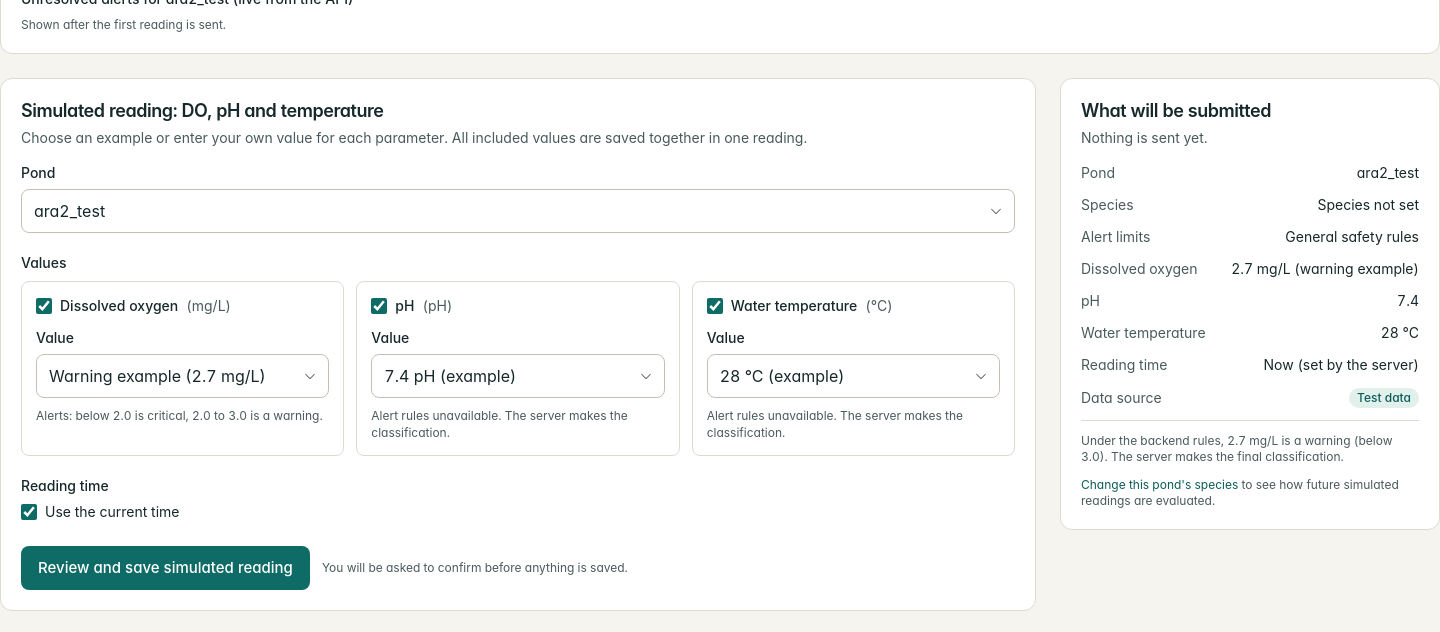
Scenario: simulation: one reading, three parameters › submits all three custom values in ONE request with the API's field names, after confirmation
(page scrolled)
expect the heading "Simulated reading: DO, pH and temperature" is shown: met, box [21,100,384,121]
Select "Custom value" in the 1st dropdown labelled "Value": (183, 376) [36,354,329,398]
(page scrolled)
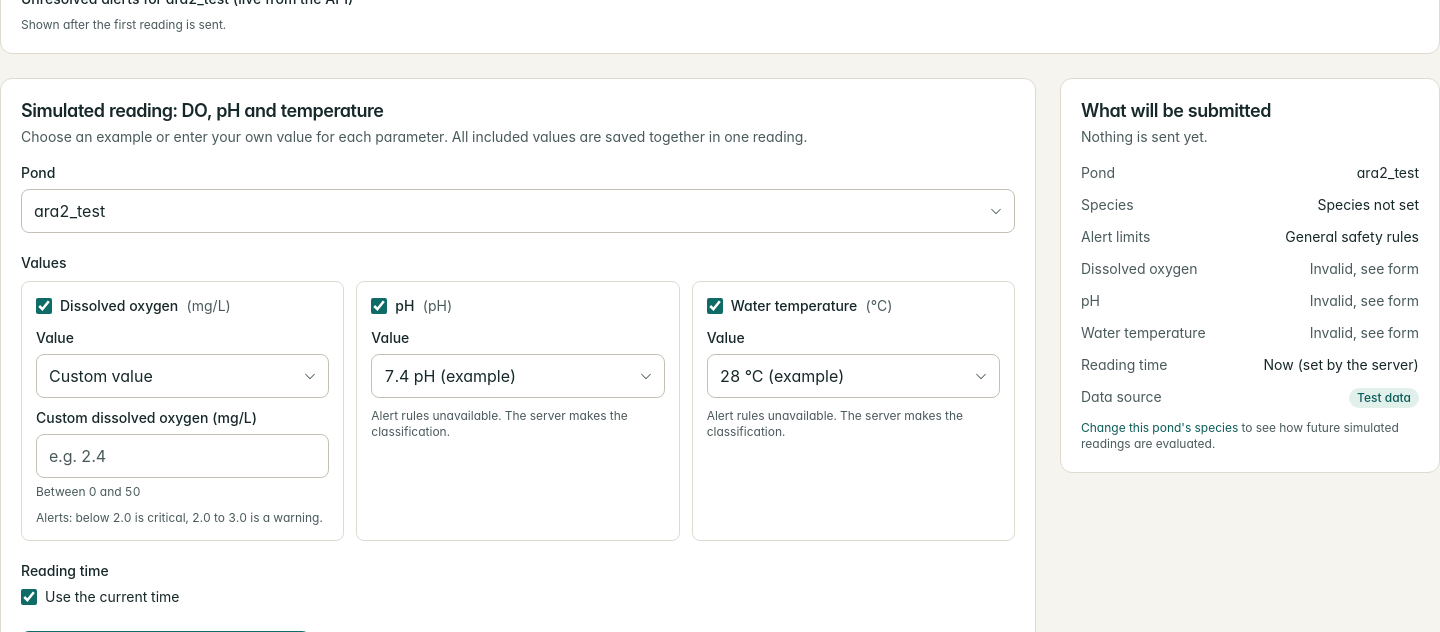
Select "Custom value" in the 2nd dropdown labelled "Value": (518, 376) [371,354,665,398]
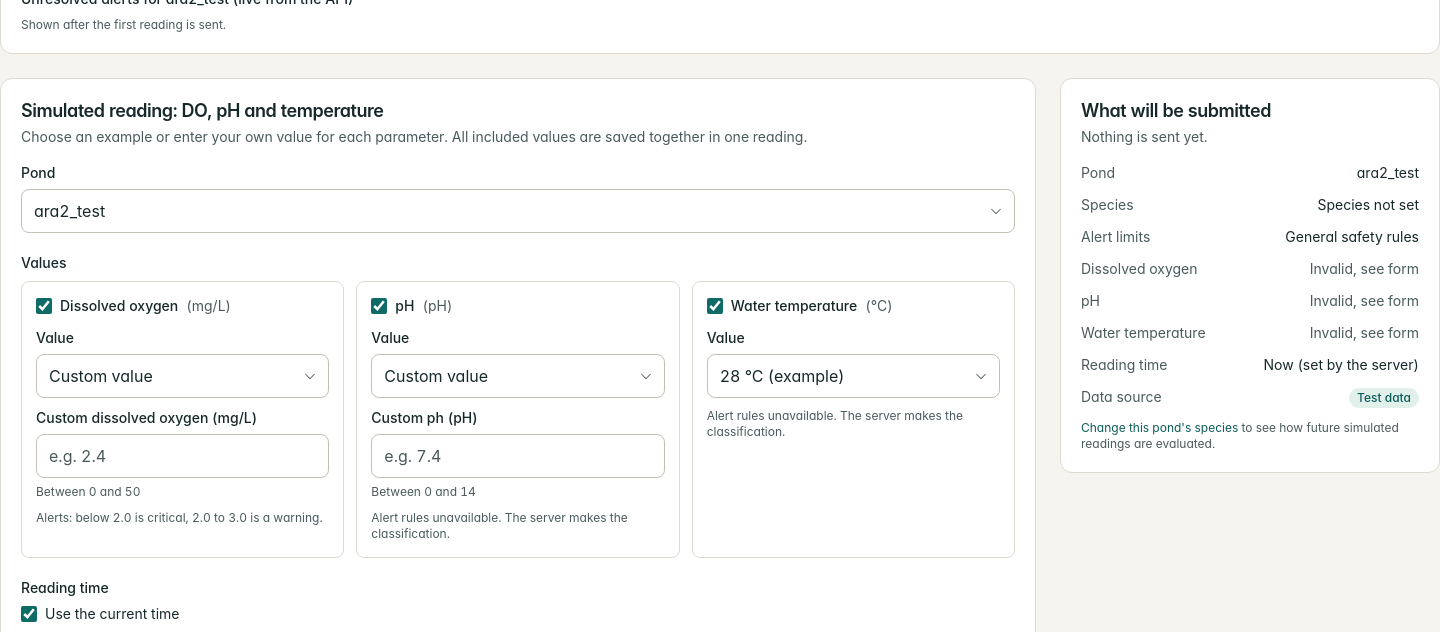
Select "Custom value" in the 3rd dropdown labelled "Value": (853, 376) [707,354,1000,398]
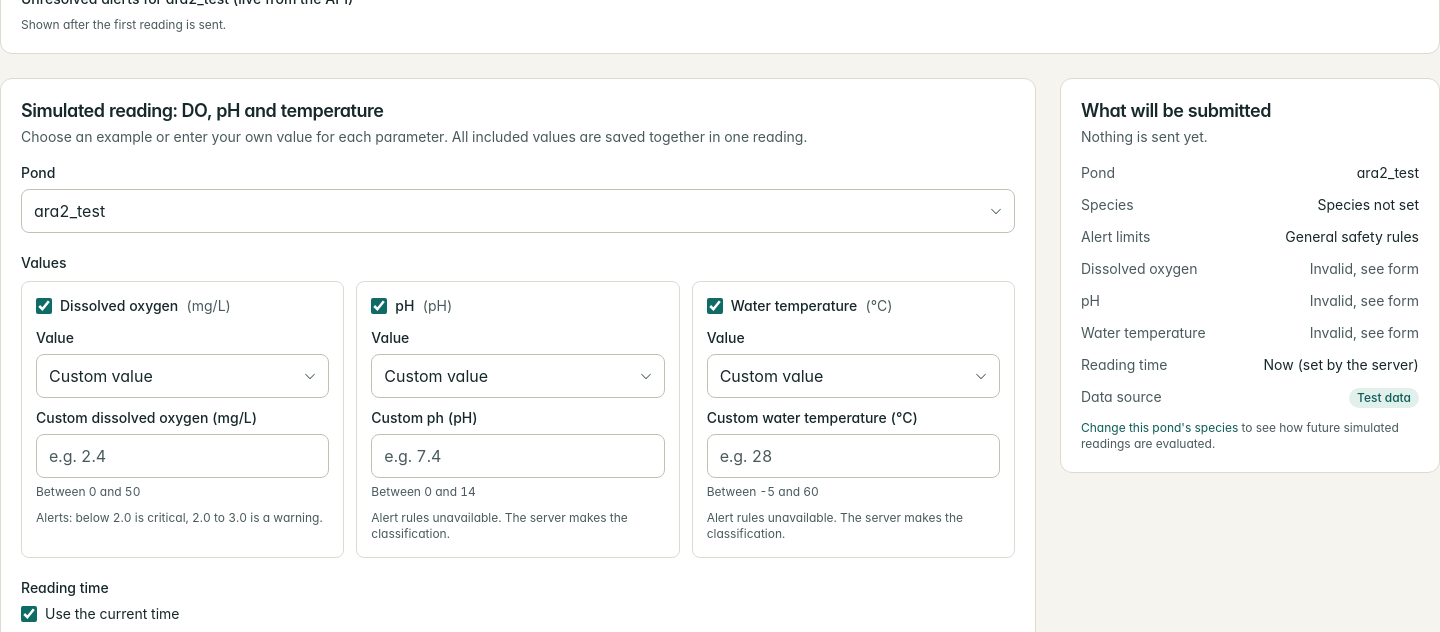
In the field labelled "Custom dissolved oxygen (mg/L)": (183, 456) [36,434,329,478], type "2.5"
In the field labelled "Custom ph (pH)": (518, 456) [371,434,665,478], type "7.4"
In the field labelled "Custom water temperature (°C)": (853, 456) [707,434,1000,478], type "28"
(page scrolled)
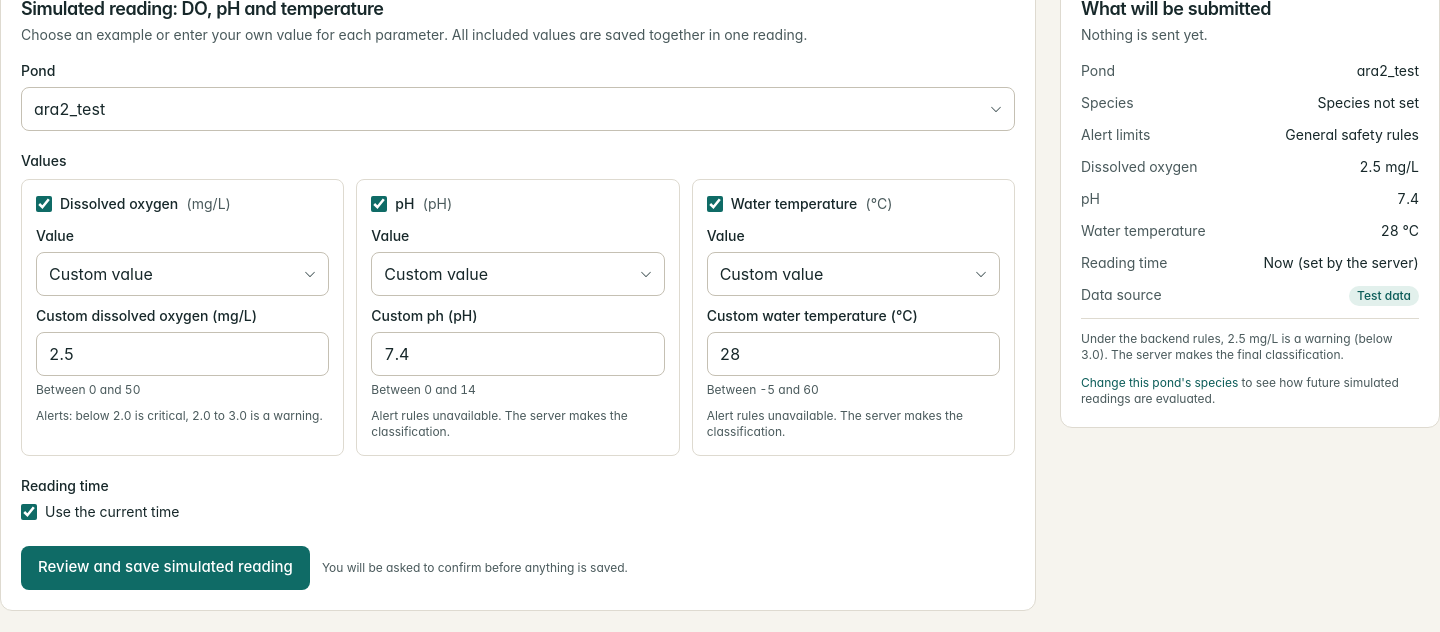
expect the text "2.5 mg/L" is shown: met, box [1360,156,1419,176]
expect the text "28 °C" is shown: met, box [1381,220,1419,240]
Click the button "Review and save simulated reading": (165, 568) [21,546,310,590]
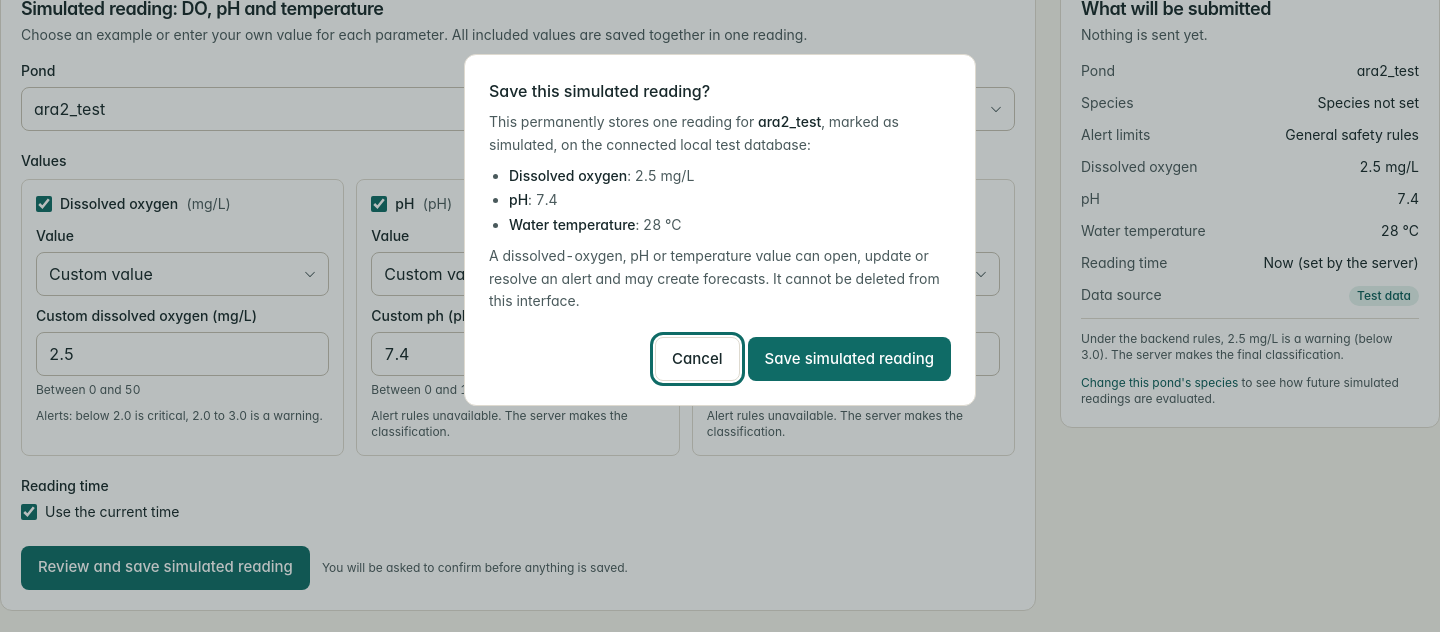
expect the list item "Dissolved oxygen: 2.5 mg/L" is shown: met, box [509,166,694,184]
expect the list item "Water temperature: 28 °C" is shown: met, box [509,216,682,233]
Click the button "Save simulated reading": (849, 359) [748,337,951,381]
(page scrolled)
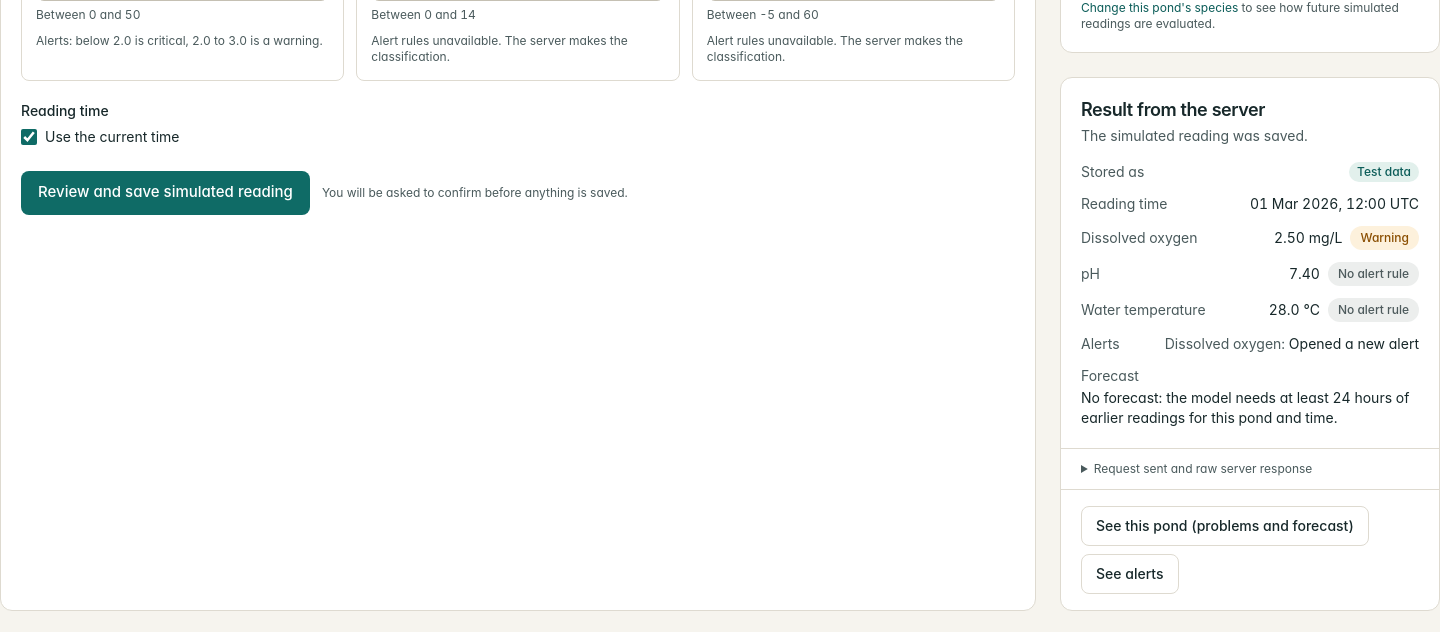
expect the heading "Result from the server" is shown: met, box [1081,98,1265,120]
expect the text "Opened a new alert" is shown: met, box [1289,334,1419,352]
expect the text "No alert rule" is shown 2 times: met, box [1328,262,1419,286]; [1328,298,1419,322]
